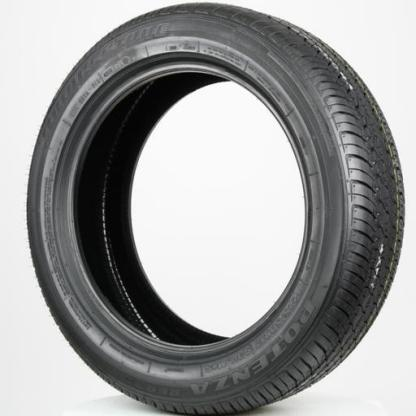Tire: (25, 1, 406, 415)
